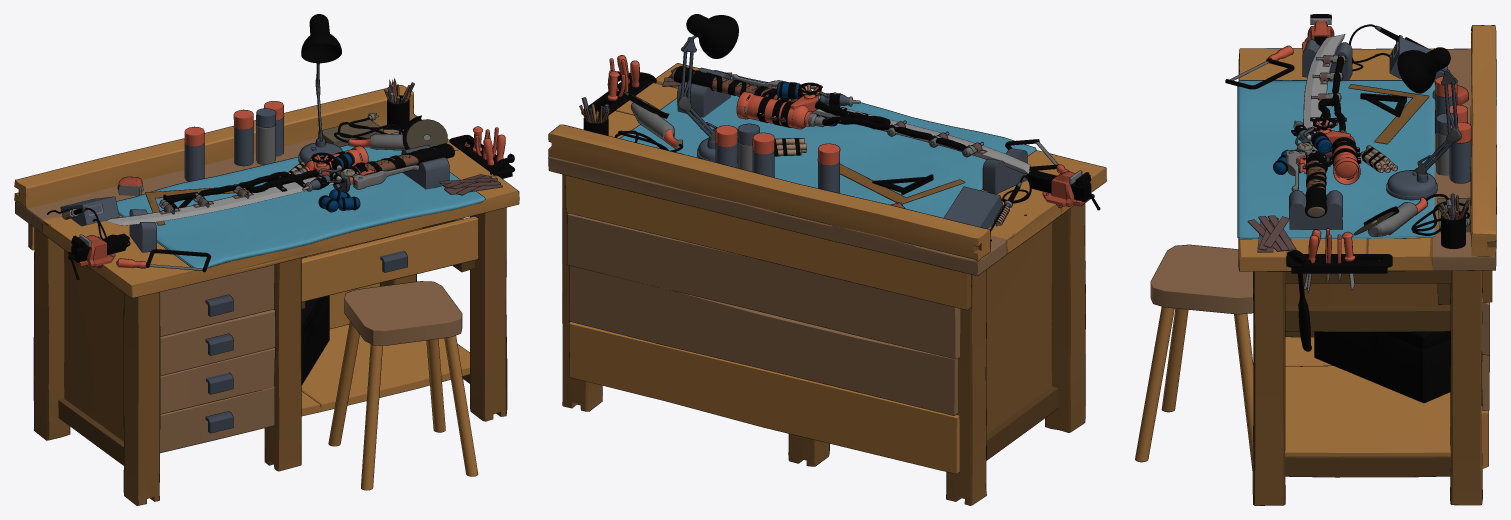
3 views of the same model, side by side, from view 1: azimuth 30°, elevation 25°; view 2: azimuth 150°, elevation 25°; view 3: azimuth 270°, elevation 25° (orthographic). The views are drawn at different scales.
Visible parts, largest first — view 1: Cylinder.003; view 2: Cylinder.003; view 3: Cylinder.003.
Part boxes in pixels (<box>): Cylinder.003: <box>14,14,519,505</box>; Cylinder.003: <box>548,14,1106,505</box>; Cylinder.003: <box>1135,14,1496,505</box>.
Size of the model in its own units: 202 by 161 by 131.
